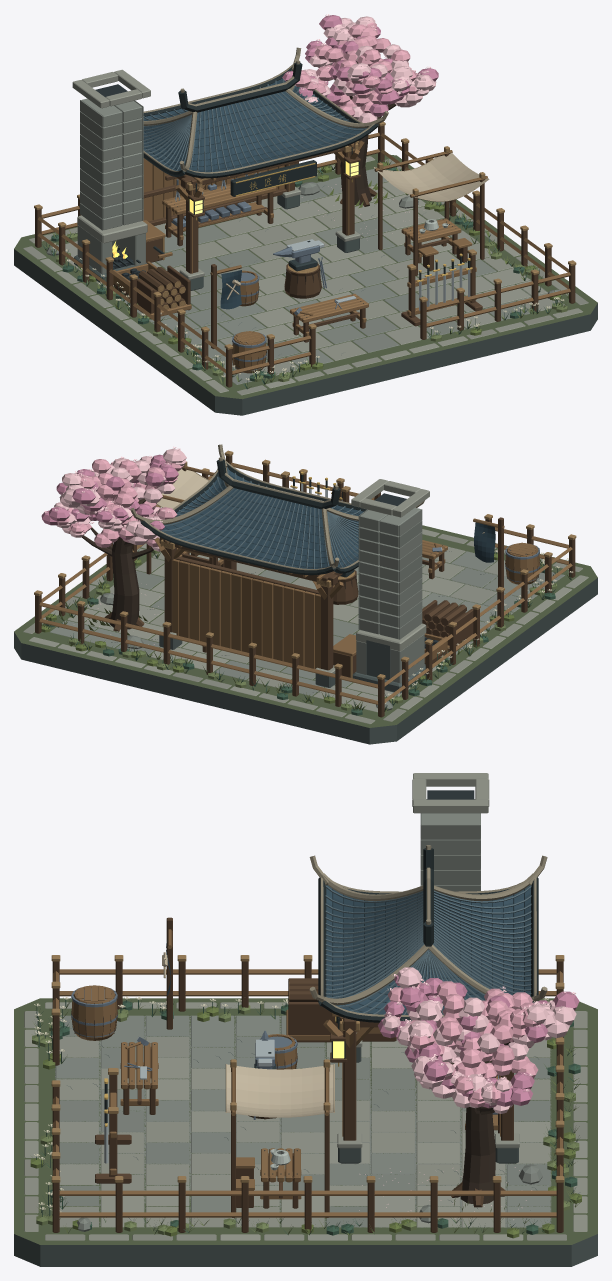
File: blacksmith.glb
The picture shows the model from 3 angles, top to bottom: view 1: azimuth 30°, elevation 25°; view 2: azimuth 150°, elevation 25°; view 3: azimuth 270°, elevation 25°; orthographic projection. The views are drawn at different scales.
Visible parts, largest first — view 1: Smith_architecture_Smith_matte, Smith_roof_Smith_matte, Smith_furnace_Smith_matte, Smith_fence_Smith_matte, Smith_peach_tree_Smith_blossom, Smith_pavilion_Smith_matte, Smith_garden_Smith_matte, Smith_canopy_Smith_matte, Smith_workbench_Smith_matte, Smith_firewood_Smith_matte, Smith_tea_table_Smith_matte, Smith_tool_table_Smith_matte (+11 smaller); view 2: Smith_architecture_Smith_matte, Smith_roof_Smith_matte, Smith_pavilion_Smith_matte, Smith_furnace_Smith_matte, Smith_fence_Smith_matte, Smith_peach_tree_Smith_blossom, Smith_garden_Smith_matte, Smith_peach_tree_Smith_matte, Smith_firewood_Smith_matte, Smith_canopy_Smith_matte, Smith_banner_Smith_matte, Smith_supply_barrel_Smith_matte (+3 smaller); view 3: Smith_architecture_Smith_matte, Smith_roof_Smith_matte, Smith_peach_tree_Smith_blossom, Smith_fence_Smith_matte, Smith_garden_Smith_matte, Smith_furnace_Smith_matte, Smith_canopy_Smith_matte, Smith_pavilion_Smith_matte, Smith_peach_tree_Smith_matte, Smith_tea_table_Smith_matte, Smith_firewood_Smith_matte, Smith_tool_table_Smith_matte (+4 smaller).
Part boxes in pixels (x1,y1,x2,y2): Smith_architecture_Smith_matte: (14, 153, 597, 415); Smith_roof_Smith_matte: (143, 47, 388, 178); Smith_furnace_Smith_matte: (72, 69, 150, 283); Smith_fence_Smith_matte: (34, 121, 576, 387); Smith_peach_tree_Smith_blossom: (282, 14, 438, 123); Smith_pavilion_Smith_matte: (143, 140, 364, 290); Smith_garden_Smith_matte: (42, 158, 568, 389); Smith_canopy_Smith_matte: (373, 146, 489, 275); Smith_workbench_Smith_matte: (162, 183, 276, 246); Smith_firewood_Smith_matte: (137, 265, 191, 316); Smith_tea_table_Smith_matte: (401, 218, 472, 270); Smith_tool_table_Smith_matte: (290, 293, 368, 342); Smith_architecture_Smith_matte: (14, 525, 597, 744); Smith_roof_Smith_matte: (130, 444, 424, 575); Smith_pavilion_Smith_matte: (154, 537, 343, 687); Smith_furnace_Smith_matte: (351, 479, 429, 693); Smith_fence_Smith_matte: (34, 450, 576, 717); Smith_peach_tree_Smith_blossom: (41, 446, 186, 551); Smith_garden_Smith_matte: (41, 547, 573, 715); Smith_peach_tree_Smith_matte: (81, 498, 153, 631); Smith_firewood_Smith_matte: (422, 600, 473, 651); Smith_canopy_Smith_matte: (146, 461, 217, 574); Smith_banner_Smith_matte: (473, 517, 504, 587); Smith_supply_barrel_Smith_matte: (505, 542, 540, 584); Smith_architecture_Smith_matte: (14, 998, 597, 1266); Smith_roof_Smith_matte: (309, 845, 547, 1022); Smith_peach_tree_Smith_blossom: (378, 967, 579, 1113); Smith_fence_Smith_matte: (51, 955, 564, 1232); Smith_garden_Smith_matte: (30, 996, 581, 1238); Smith_furnace_Smith_matte: (412, 773, 489, 891); Smith_canopy_Smith_matte: (225, 1059, 334, 1217); Smith_pavilion_Smith_matte: (323, 1013, 519, 1163); Smith_peach_tree_Smith_matte: (407, 1038, 510, 1207); Smith_tea_table_Smith_matte: (236, 1148, 301, 1208); Smith_firewood_Smith_matte: (286, 978, 340, 1042); Smith_tool_table_Smith_matte: (120, 1042, 158, 1114).
Bounding box in the file's own units: 10 × 5 × 10.
